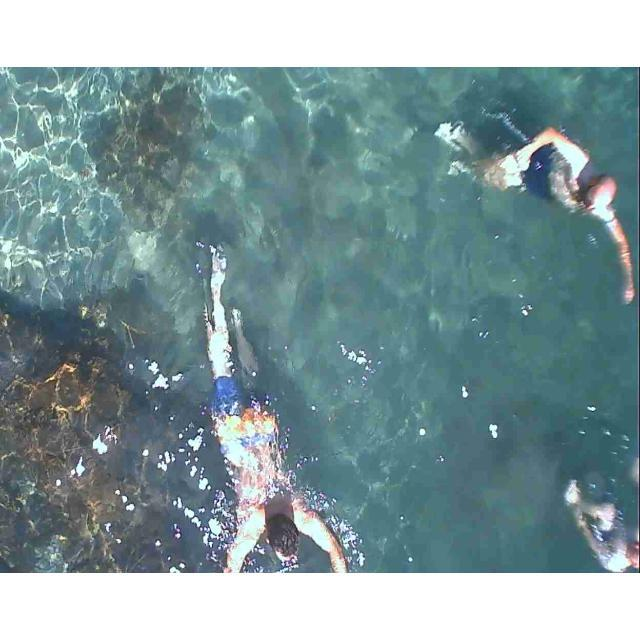human: (445, 89, 626, 299)
